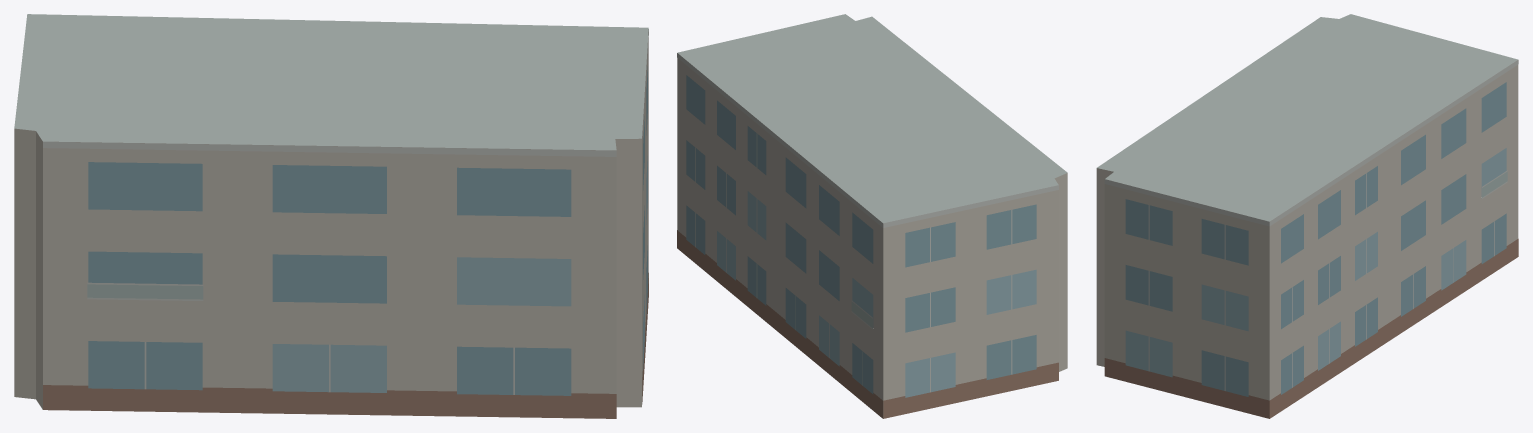
The model's file is survey-upis-32476066.glb.
The picture shows the model from 3 angles, left to right: view 1: azimuth 30°, elevation 25°; view 2: azimuth 150°, elevation 25°; view 3: azimuth 270°, elevation 25°; orthographic projection. The views are drawn at different scales.
Parts seen in each view (by area): view 1: survey-upis-32476066.tmp; view 2: survey-upis-32476066.tmp; view 3: survey-upis-32476066.tmp.
Boxes of the visible parts, x1,y1,x2,y2 form: survey-upis-32476066.tmp: [14, 14, 648, 418]; survey-upis-32476066.tmp: [677, 14, 1067, 418]; survey-upis-32476066.tmp: [1096, 14, 1518, 418].
Bounding box in the file's own units: 22.59 × 10 × 19.4.
